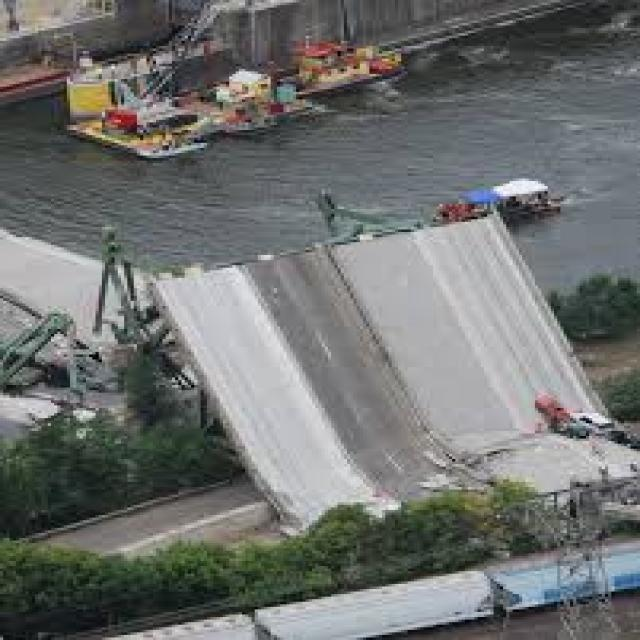bridge collapse: (0, 111, 640, 604)
